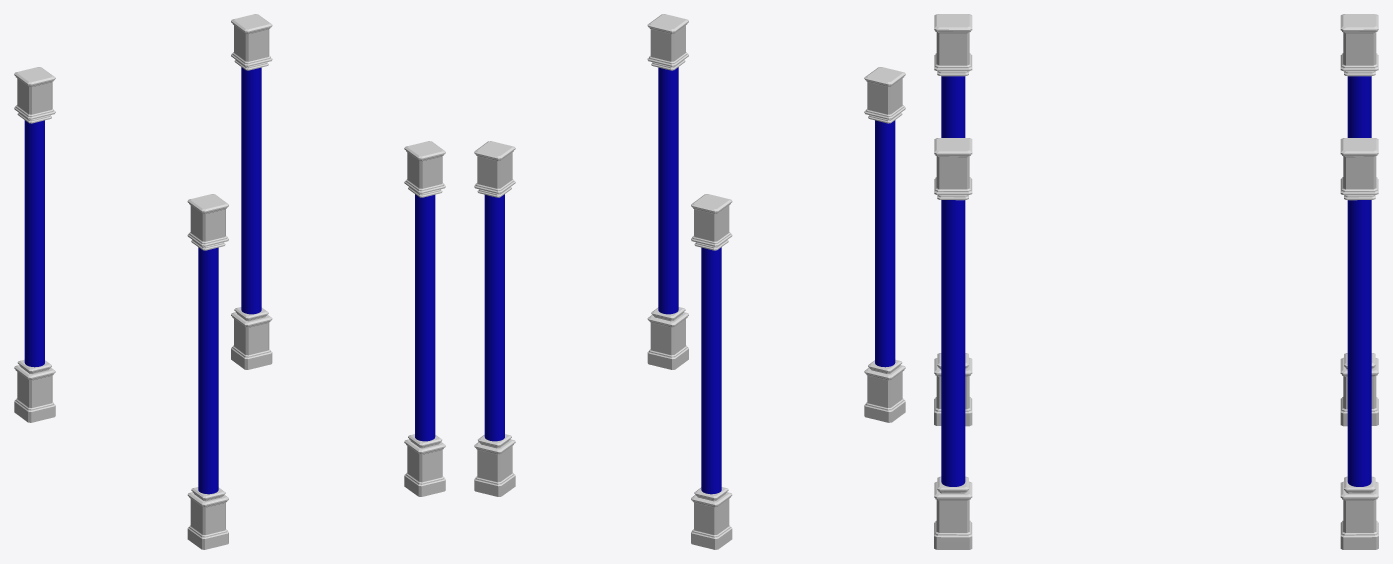
Rendered from Long Single Column 4x.fbx.
3 renders of one model, left to right at view 1: azimuth 30°, elevation 25°; view 2: azimuth 150°, elevation 25°; view 3: azimuth 270°, elevation 25°, orthographic. The views are drawn at different scales.
Parts seen in each view (by area): view 1: Cube.022; view 2: Cube.022; view 3: Cube.022.
Part boxes in pixels (x1,y1,x2,y2): Cube.022: (14,14,445,549); Cube.022: (474,14,905,549); Cube.022: (934,14,1378,549).
Size of the model in its own units: 1434 by 1905 by 1932.
